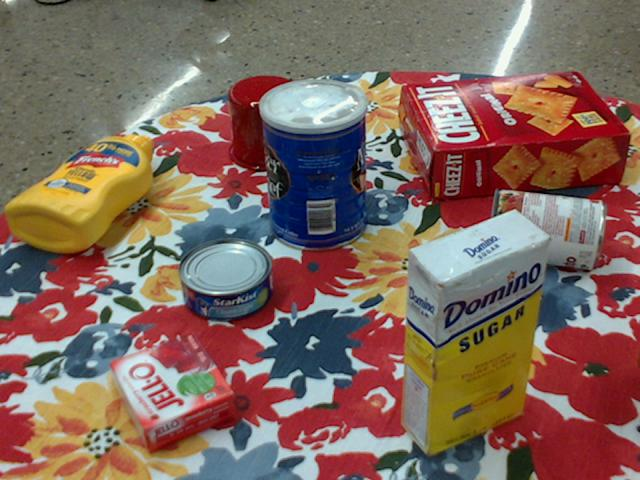cracker_box: (402, 72, 630, 201)
gelatin_box: (111, 335, 237, 456)
master_chef_can: (260, 77, 368, 251)
mug: (228, 75, 324, 171)
mustard_bottle: (5, 134, 152, 252)
sugar_box: (403, 207, 550, 458)
tomato_soup_can: (490, 188, 607, 267)
tuna_fish_can: (177, 239, 272, 322)
